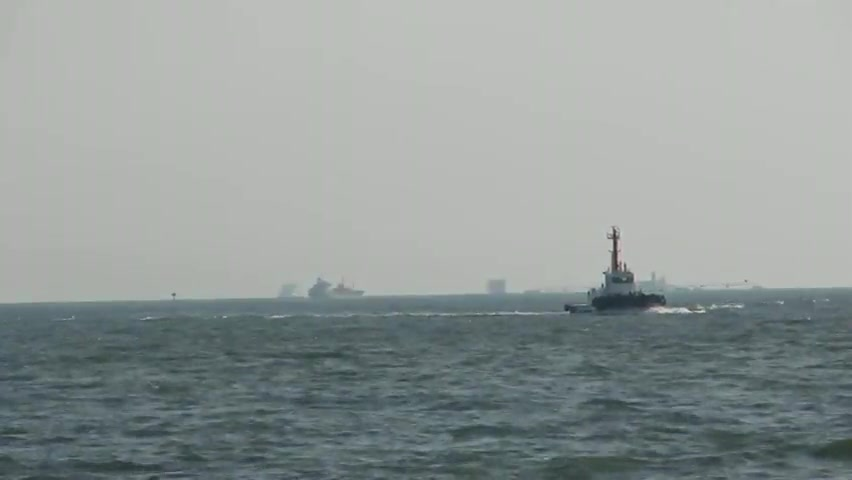boat: (560, 228, 668, 314)
